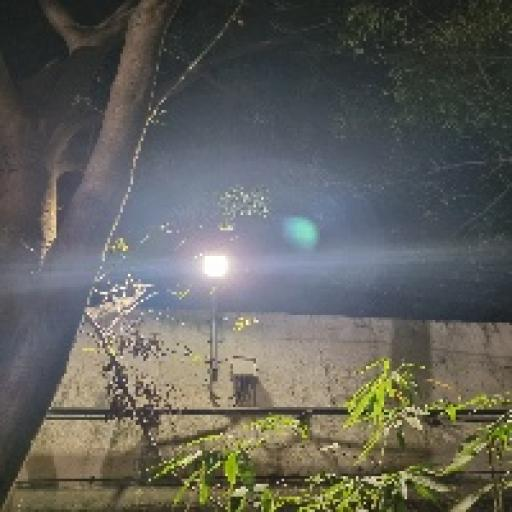Working: (190, 244, 242, 288)
